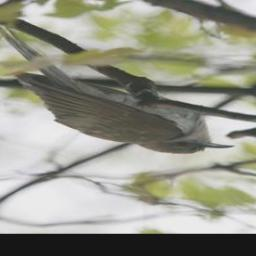Cuckoo: (0, 21, 234, 155)
